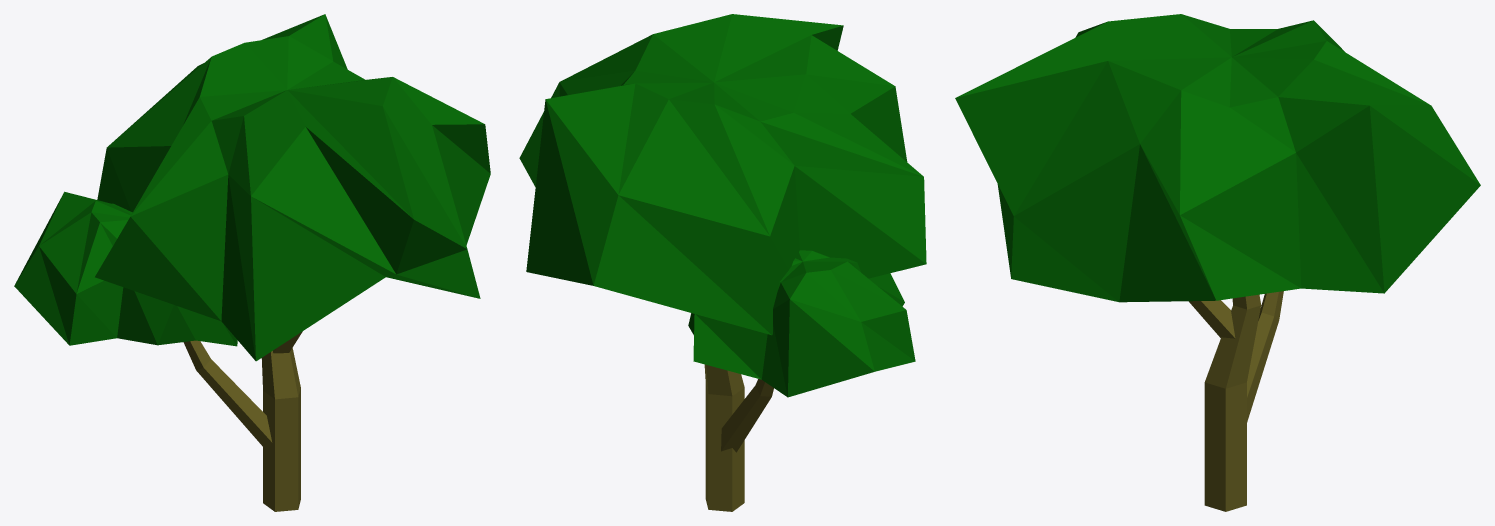
File: LowPoly_Tree_v1.obj
The picture shows the model from 3 angles, left to right: view 1: azimuth 30°, elevation 25°; view 2: azimuth 150°, elevation 25°; view 3: azimuth 270°, elevation 25°; orthographic projection. The views are drawn at different scales.
Parts seen in each view (by area): view 1: leaves, trunks; view 2: leaves, trunks; view 3: leaves, trunks.
Boxes of the visible parts, x1=… form: leaves: x1=14, y1=14, x2=490, y2=361; trunks: x1=183, y1=331, x2=302, y2=511; leaves: x1=519, y1=14, x2=926, y2=397; trunks: x1=704, y1=364, x2=773, y2=511; leaves: x1=955, y1=14, x2=1480, y2=302; trunks: x1=1189, y1=291, x2=1283, y2=511.
Bounding box in the file's own units: 206 × 205 × 209.
